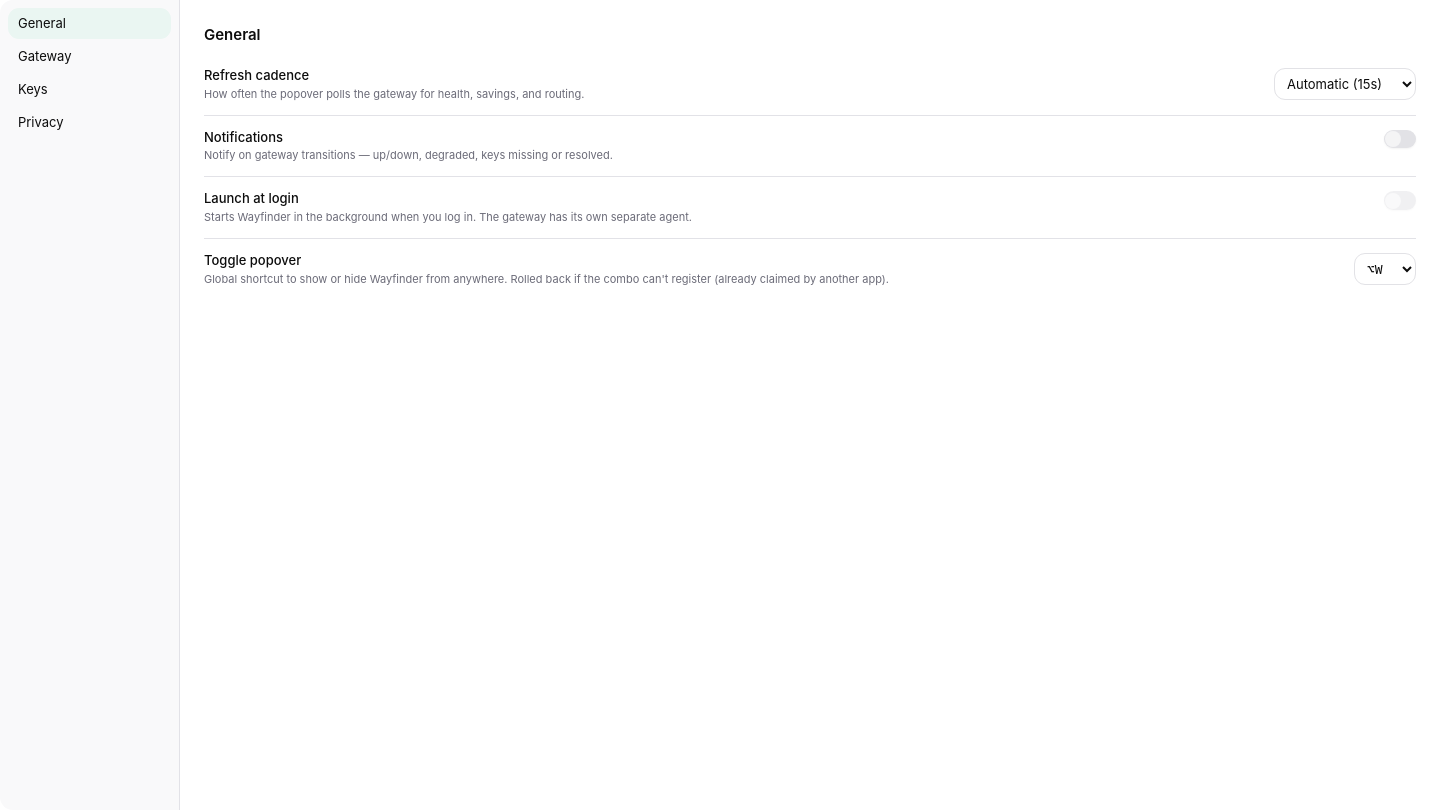
it: SettingsWindow — Keys section (WF-DESIGN-0015: keyed models from /router/models) › an unreachable gateway degrades to an honest message
Click the button "Keys": (90, 89) [8,74,171,104]
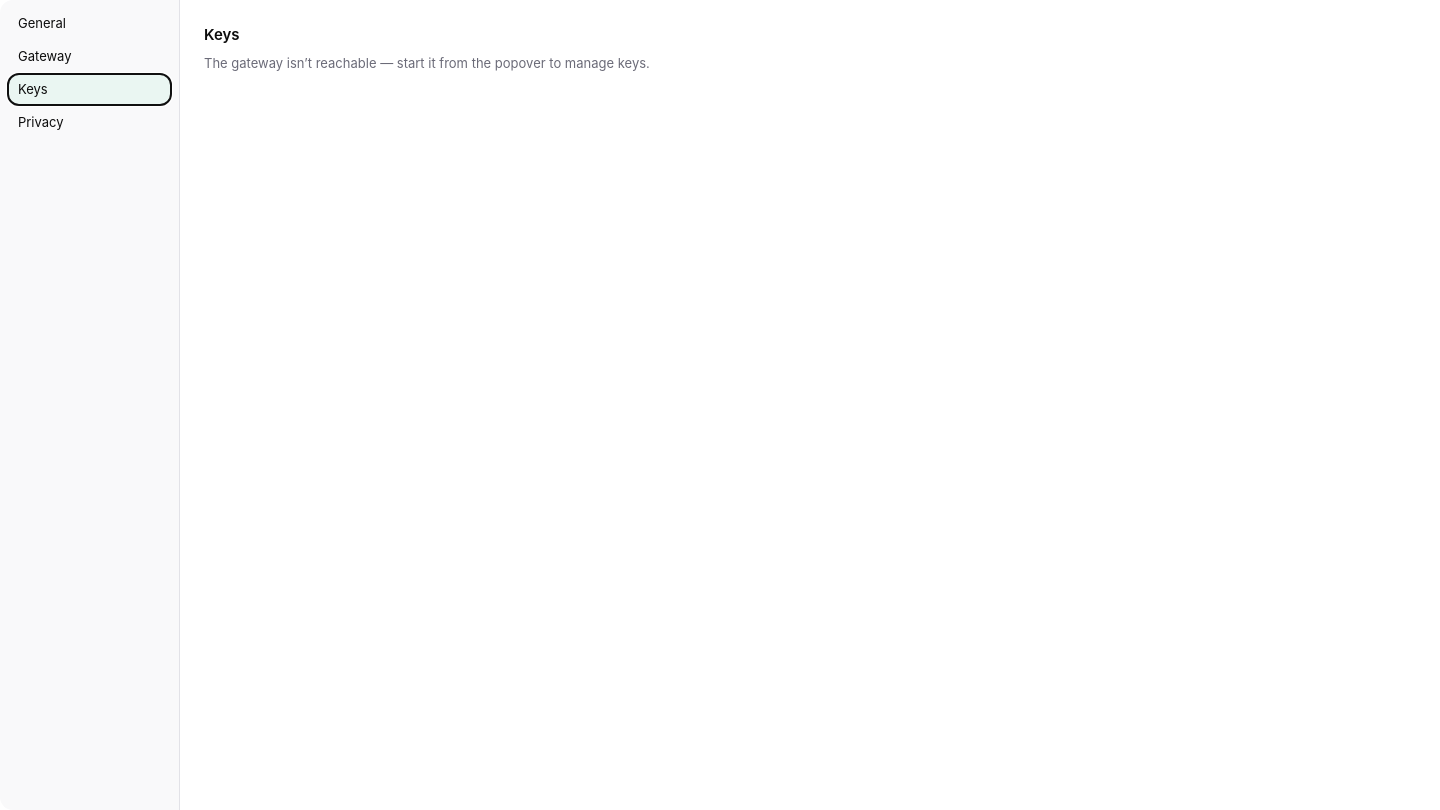
Expected: the text "isn’t reachable" is shown, [204,55,650,71]
